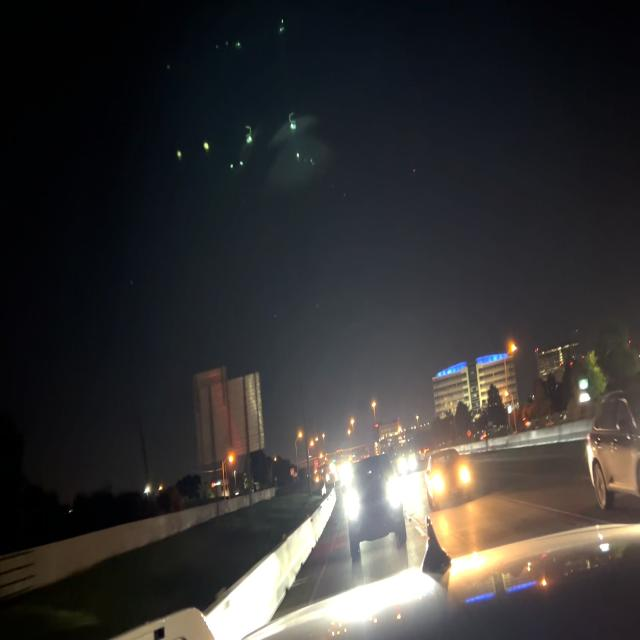back-of-sign: (194, 366, 267, 463)
